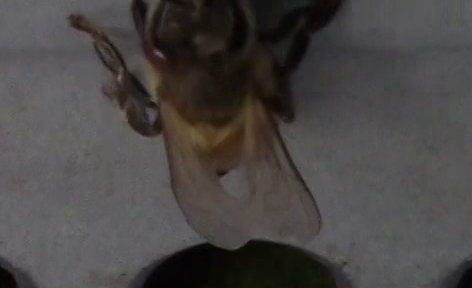Varroa destructor: (143, 39, 188, 75)
